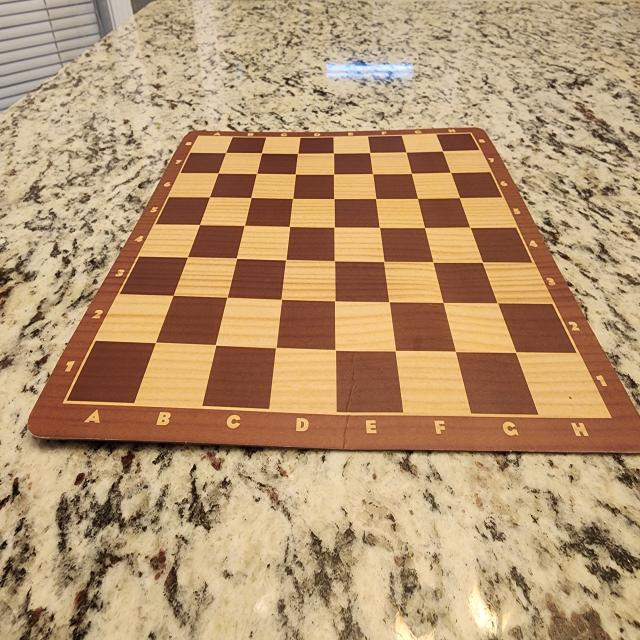Bottom-Left: (73, 339, 137, 403)
Bottom-Right: (518, 350, 609, 417)
Top-Left: (194, 134, 229, 154)
Top-Right: (437, 131, 478, 151)
